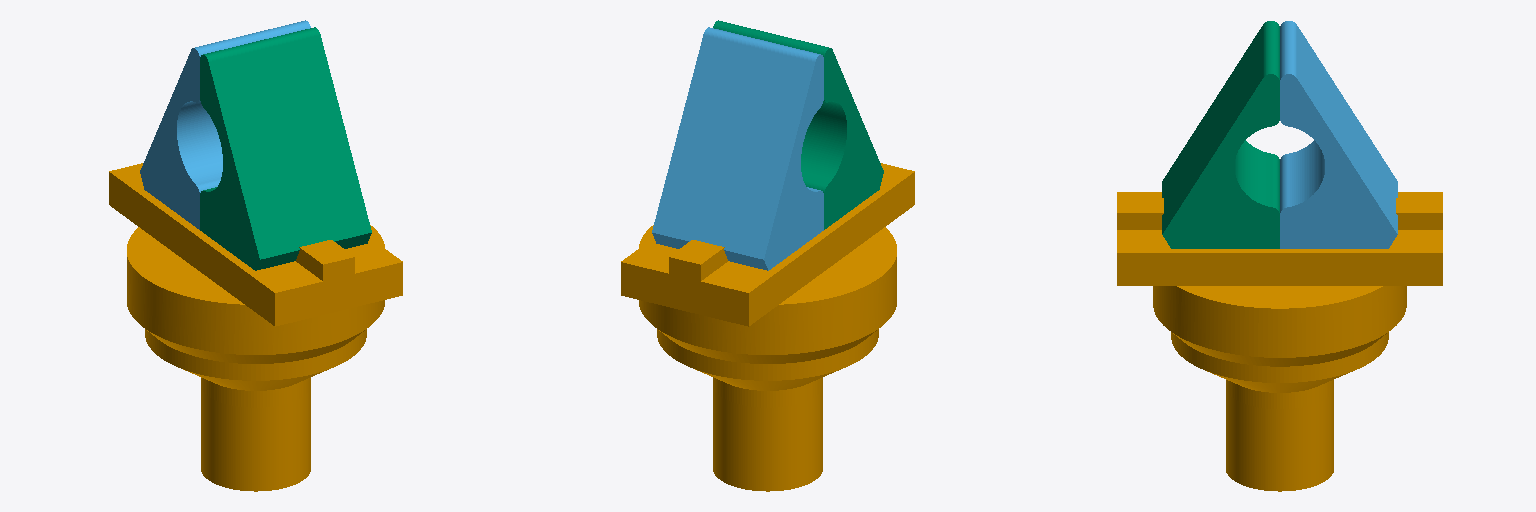
The robot description file, URDF, robot "pjm_pole":
<?xml version="1.0" ?>
<robot name="pjm_pole">


  <link name="pjm">
  <!-- IEEM -->
    <visual>
      <origin rpy="0 0 0" xyz="0 0 0"/>
      <geometry>
        <mesh filename="package://meshes/IEEM.obj" scale="0.001 0.001 0.001"/>
      </geometry>
    </visual>
    <collision>
      <origin rpy="0 0 0" xyz="0 0 0"/>
      <geometry>
        <mesh filename="package://meshes/IEEM.obj" scale="0.001 0.001 0.001"/>
      </geometry>
    </collision>

  <!-- Gripper Base -->
    <visual>
      <origin rpy="0 0 0" xyz="0 0 0.03"/>
      <geometry>
        <mesh filename="package://meshes/gripper_base.obj" scale="0.001 0.001 0.001"/>
      </geometry>
    </visual>
    <collision>
      <origin rpy="0 0 0" xyz="0 0 0.03"/>
      <geometry>
        <mesh filename="package://meshes/gripper_base.obj" scale="0.001 0.001 0.001"/>
      </geometry>
    </collision>

  </link>

  <!-- Left mandible -->
  <link name="lm">
    <visual>
      <origin rpy="-1.57079632679 0 0" xyz="-0.0175 0.075 0"/>
      <geometry>
        <mesh filename="package://meshes/pole_claw.obj" scale="0.001 0.001 0.001"/>
      </geometry>
    </visual>
    <collision>
      <origin rpy="-1.57079632679 0 0" xyz="-0.0175 0.075 0"/>
      <geometry>
        <mesh filename="package://meshes/pole_claw.obj" scale="0.001 0.001 0.001"/>
      </geometry>
    </collision>
  </link>
  <joint name="lm" type="prismatic">
    <parent link="pjm"/>
    <child link="lm"/>
    <origin xyz="0 0 0" rpy= "1.57079632679 0 0"/>
    <axis xyz="0 0 1"/>
    <limit effort="1000" velocity="1000" lower="-0.03" upper="0" />
  </joint>

  <!-- Right mandible -->
  <link name="rm">
    <visual>
      <origin rpy="-1.57079632679 3.14159265359 0" xyz="0.0175 0.075 0"/>
      <geometry>
        <mesh filename="package://meshes/pole_claw.obj" scale="0.001 0.001 0.001"/>
      </geometry>
    </visual>
    <collision>
      <origin rpy="-1.57079632679 3.14159265359 0" xyz="0.0175 0.075 0"/>
      <geometry>
        <mesh filename="package://meshes/pole_claw.obj" scale="0.001 0.001 0.001"/>
      </geometry>
    </collision>
  </link>
  <joint name="rm" type="prismatic">
    <parent link="pjm"/>
    <child link="rm"/>
    <origin xyz="0 0 0" rpy= "1.57079632679 0 0"/>
    <axis xyz="0 0 1"/>
    <limit effort="1000" velocity="1000" lower="0" upper="0.03" />
  </joint>

</robot>

--- Render facts (derived) ---
The picture shows the robot from 3 angles, left to right: view 1: azimuth 30°, elevation 25°; view 2: azimuth 150°, elevation 25°; view 3: azimuth 270°, elevation 25°; orthographic projection.
Model pjm_pole with 3 links and 2 joints (2 prismatic), rooted at pjm, posed every joint at zero.
Links seen in each view (by area): view 1: pjm, rm, lm; view 2: pjm, lm, rm; view 3: pjm, lm, rm.
Boxes of the visible links, bbox=[...] form: pjm: bbox=[109, 163, 402, 491]; rm: bbox=[200, 27, 371, 270]; lm: bbox=[140, 20, 310, 229]; pjm: bbox=[621, 163, 914, 491]; lm: bbox=[652, 27, 823, 270]; rm: bbox=[713, 20, 883, 229]; pjm: bbox=[1117, 192, 1442, 491]; lm: bbox=[1280, 21, 1397, 248]; rm: bbox=[1162, 21, 1279, 248].
Size in the robot's own frame: 0.07 by 0.09 by 0.1283 metres.
Meshes: 3 distinct files referenced, 4 mesh visuals loaded (3 OBJ).
